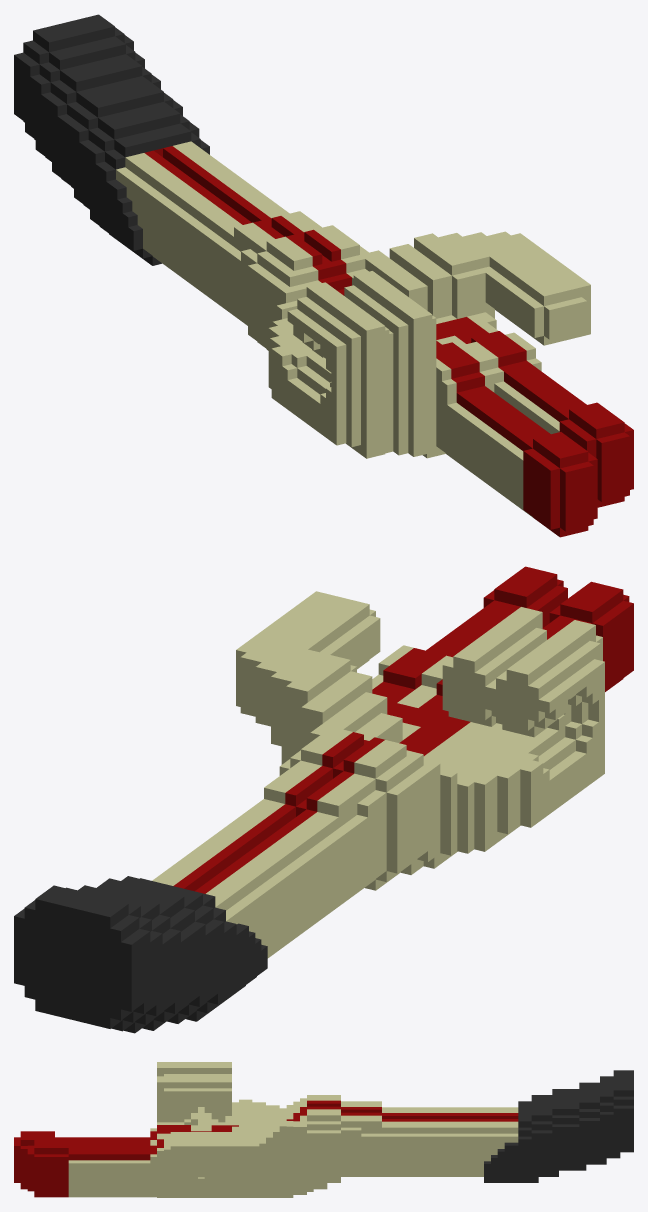
The model's file is sniperSheesh.obj.
3 views of the same model, one above another, from view 1: azimuth 30°, elevation 25°; view 2: azimuth 150°, elevation 25°; view 3: azimuth 270°, elevation 25° (orthographic). The views are drawn at different scales.
Bounding box in the file's own units: 2.7 × 1.6 × 9.1.
Materials: 1 (1 with a texture image).
